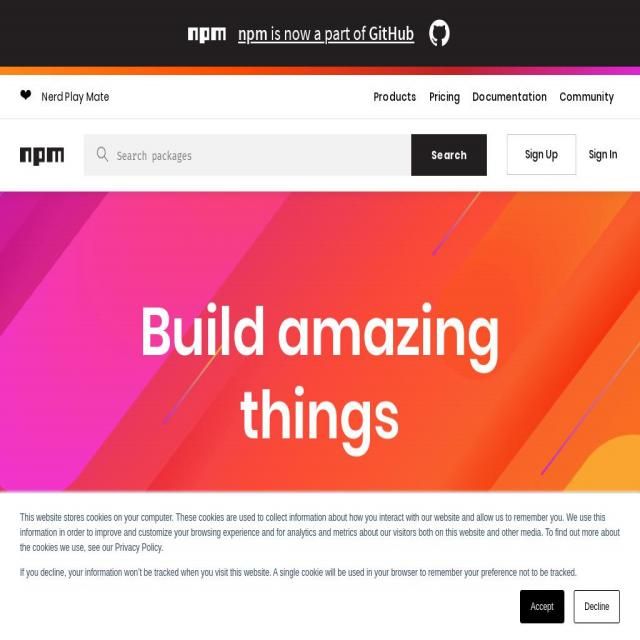login-option: (583, 132, 635, 178)
navigation-links: (370, 83, 620, 112)
search: (81, 130, 486, 182)
sign-up-option: (502, 130, 578, 180)
